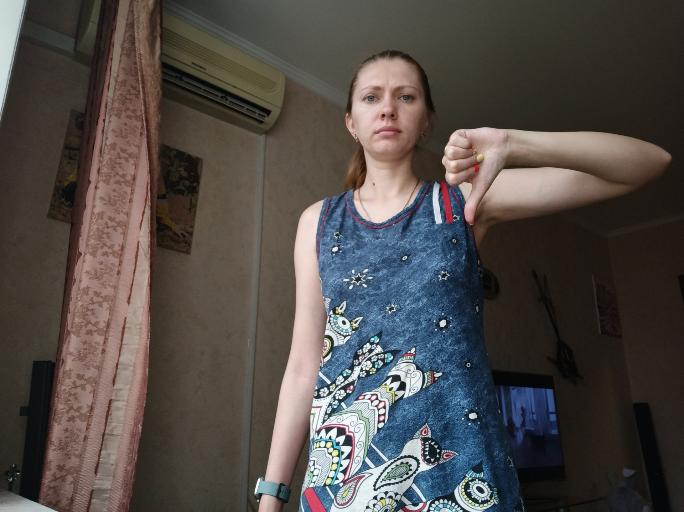dislike: (437, 124, 508, 226)
